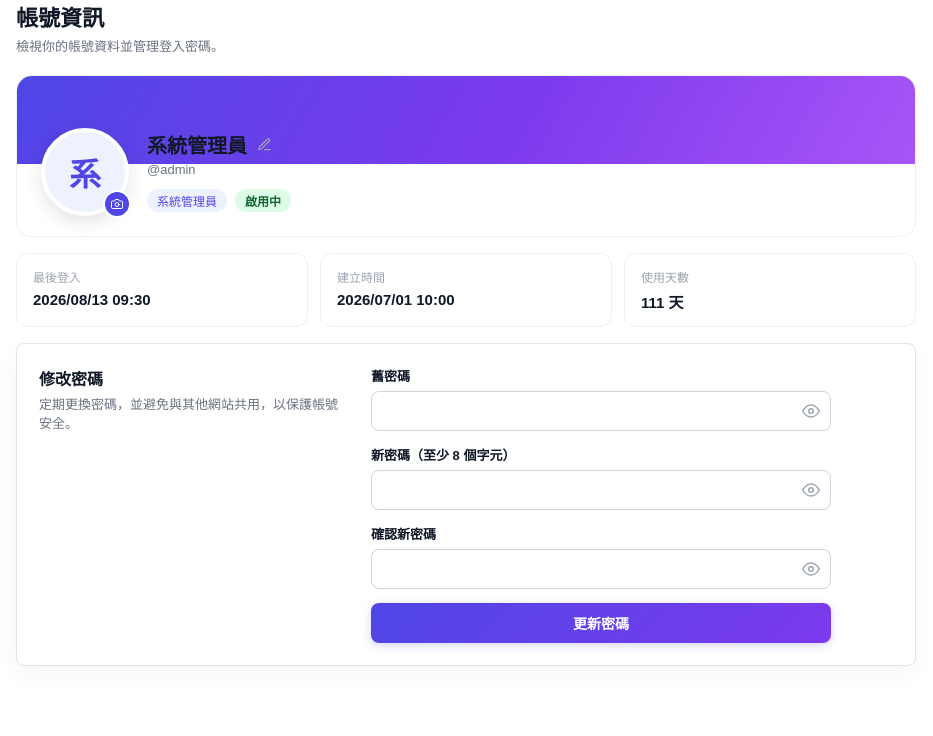
Scenario: ProfileView › 點編輯 → 出現輸入框；儲存後顯示新名稱
Click the button named "編輯顯示名稱": (264, 144) x1=255 y1=135 x2=274 y2=154
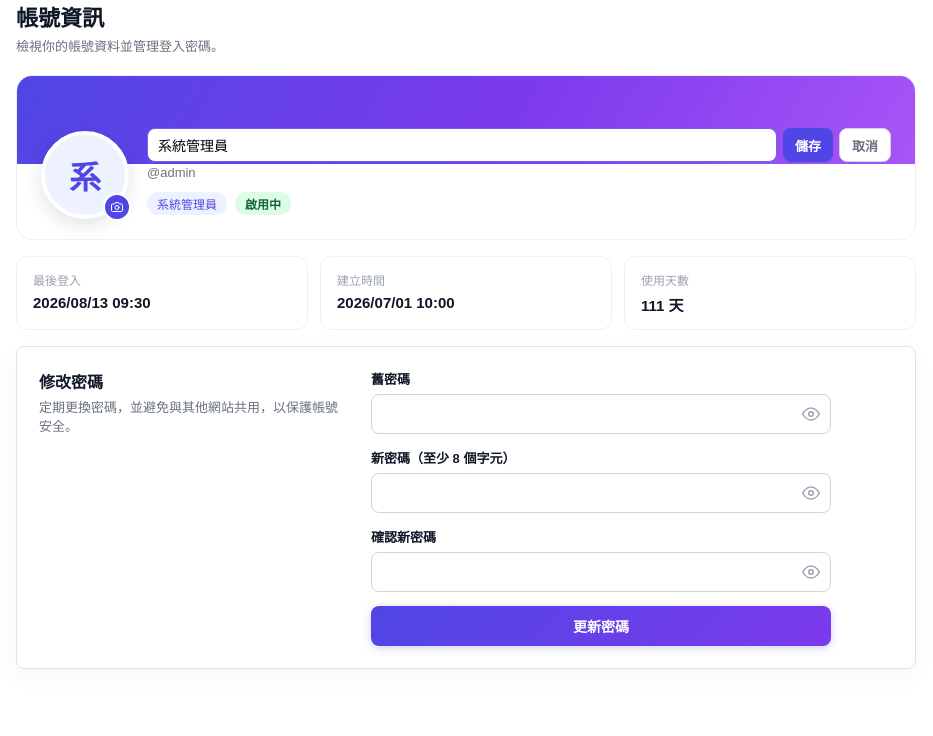
Check: the field is shown
Replace the text in the field with "新名字": (462, 145) x1=147 y1=128 x2=777 y2=162
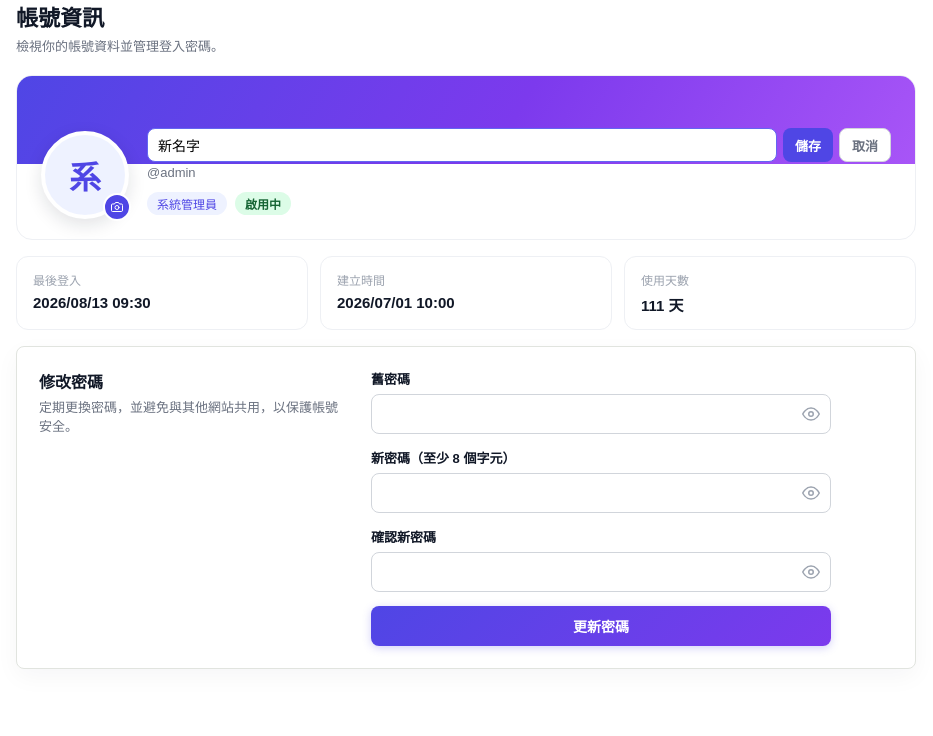
Click the button "儲存": (808, 145) x1=783 y1=128 x2=833 y2=162
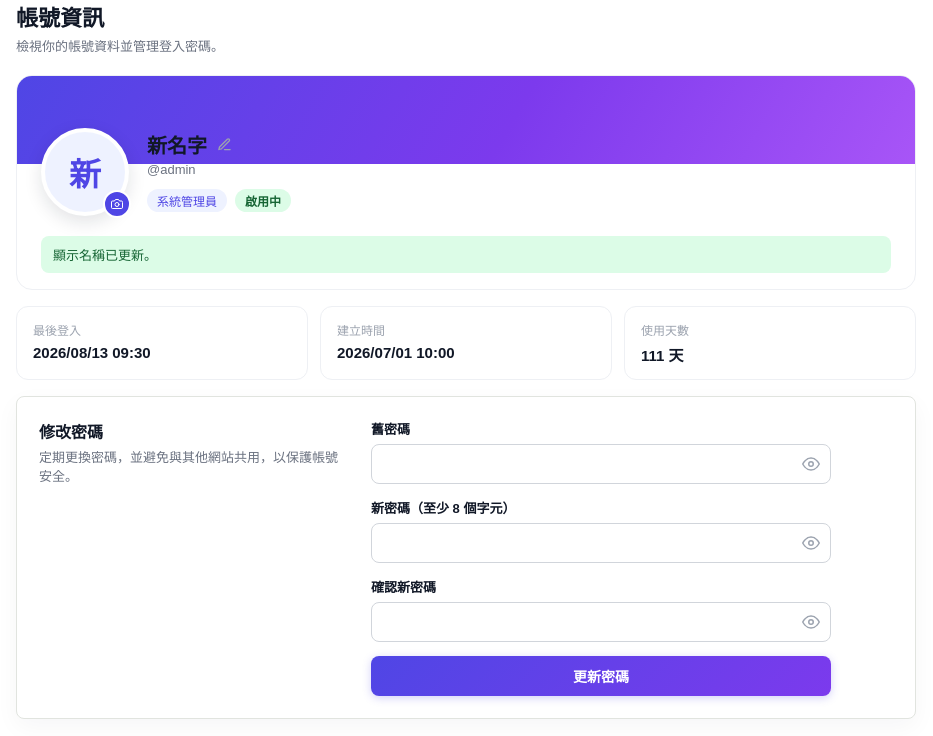
Check: the text "新名字" is shown, box x1=147 y1=130 x2=207 y2=159
